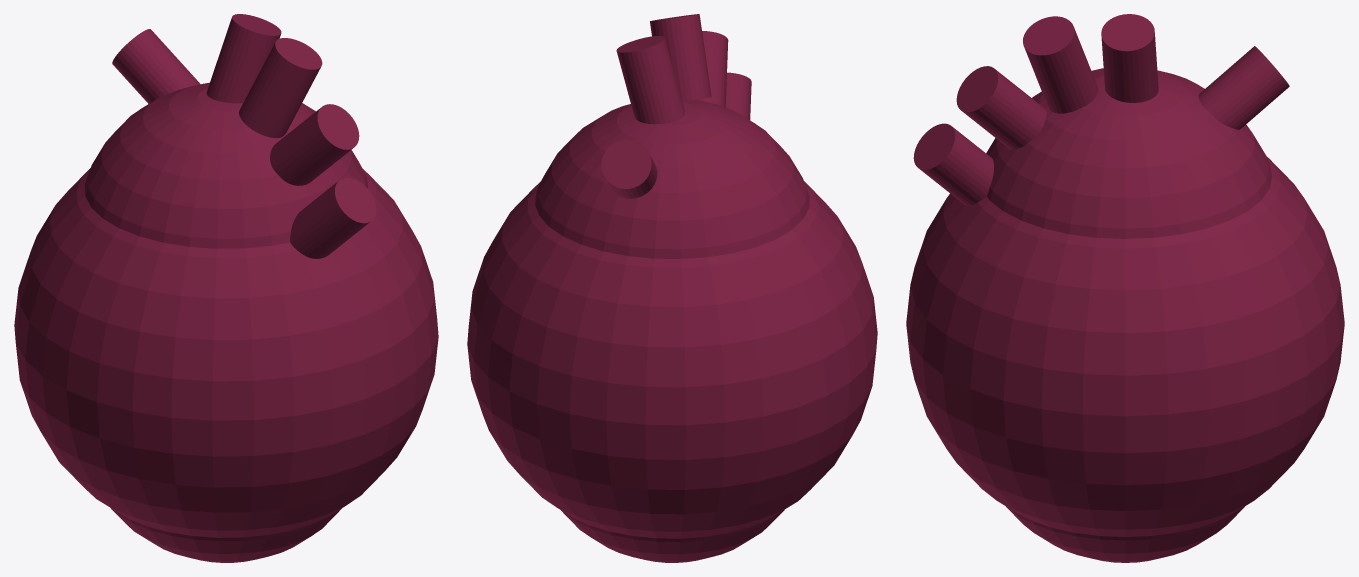
File: heart.fbx
3 views of the same model, side by side, from view 1: azimuth 30°, elevation 25°; view 2: azimuth 150°, elevation 25°; view 3: azimuth 270°, elevation 25° (orthographic). The views are drawn at different scales.
Visible parts, largest first — view 1: node_id6, node_id14, node_id12, node_id10, node_id16, node_id8; view 2: node_id6, node_id16, node_id14, node_id8, node_id12, node_id10; view 3: node_id6, node_id14, node_id12, node_id16, node_id10, node_id8.
Part boxes in pixels (<box>): node_id6: <box>14,82,438,562</box>; node_id14: <box>239,38,322,138</box>; node_id12: <box>270,104,359,185</box>; node_id10: <box>290,177,376,258</box>; node_id16: <box>206,14,281,103</box>; node_id8: <box>112,29,200,103</box>; node_id6: <box>467,99,877,562</box>; node_id16: <box>616,36,684,124</box>; node_id14: <box>650,14,711,101</box>; node_id8: <box>601,139,657,198</box>; node_id12: <box>697,31,728,106</box>; node_id10: <box>725,72,751,119</box>; node_id6: <box>906,68,1344,562</box>; node_id14: <box>1023,16,1098,113</box>; node_id12: <box>956,66,1046,149</box>; node_id16: <box>1101,14,1158,102</box>; node_id10: <box>913,123,993,205</box>; node_id8: <box>1198,46,1289,129</box>.
Size of the model in its own units: 0.1505 by 0.2047 by 0.1505.
Materials: 6 (6 with a texture image).
